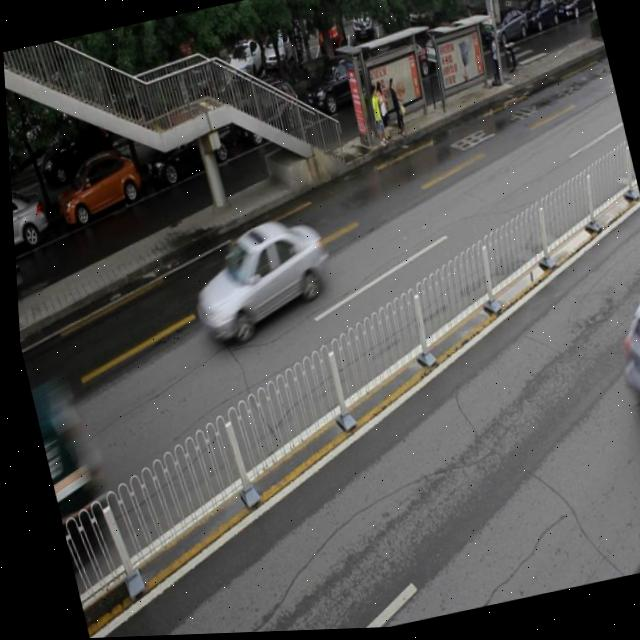car: (175, 211, 338, 354), (45, 148, 144, 228), (133, 109, 235, 185), (294, 52, 377, 123), (226, 80, 303, 151), (9, 182, 49, 255)
